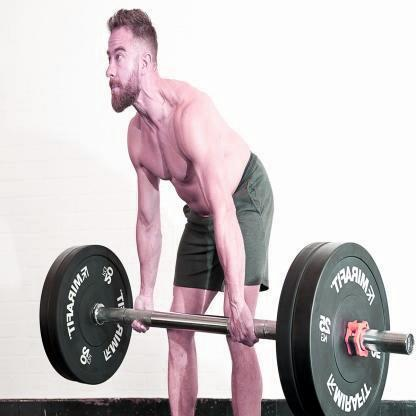Barbell: (398, 326, 413, 361)
